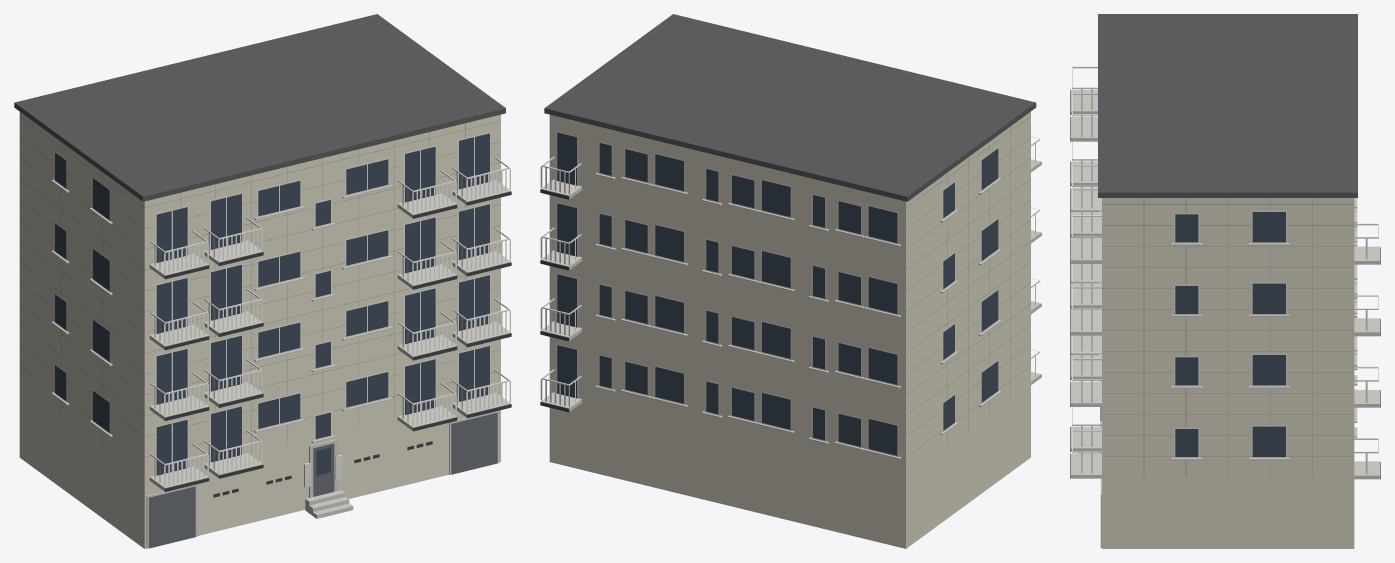
Rendered from nw-pilotis-panel-flat__concrete-panel__5__flat__long__solid.glb.
3 views of the same model, side by side, from view 1: azimuth 30°, elevation 25°; view 2: azimuth 150°, elevation 25°; view 3: azimuth 270°, elevation 25° (orthographic).
Visible parts, largest first — view 1: nw-pilotis-panel-flat__concrete-panel__5__flat__long__solid; view 2: nw-pilotis-panel-flat__concrete-panel__5__flat__long__solid; view 3: nw-pilotis-panel-flat__concrete-panel__5__flat__long__solid.
Part boxes in pixels (<box>): nw-pilotis-panel-flat__concrete-panel__5__flat__long__solid: <box>14,14,511,548</box>; nw-pilotis-panel-flat__concrete-panel__5__flat__long__solid: <box>540,14,1041,548</box>; nw-pilotis-panel-flat__concrete-panel__5__flat__long__solid: <box>1070,14,1380,548</box>.
Size of the model in its own units: 16.45 by 15.34 by 12.07.
